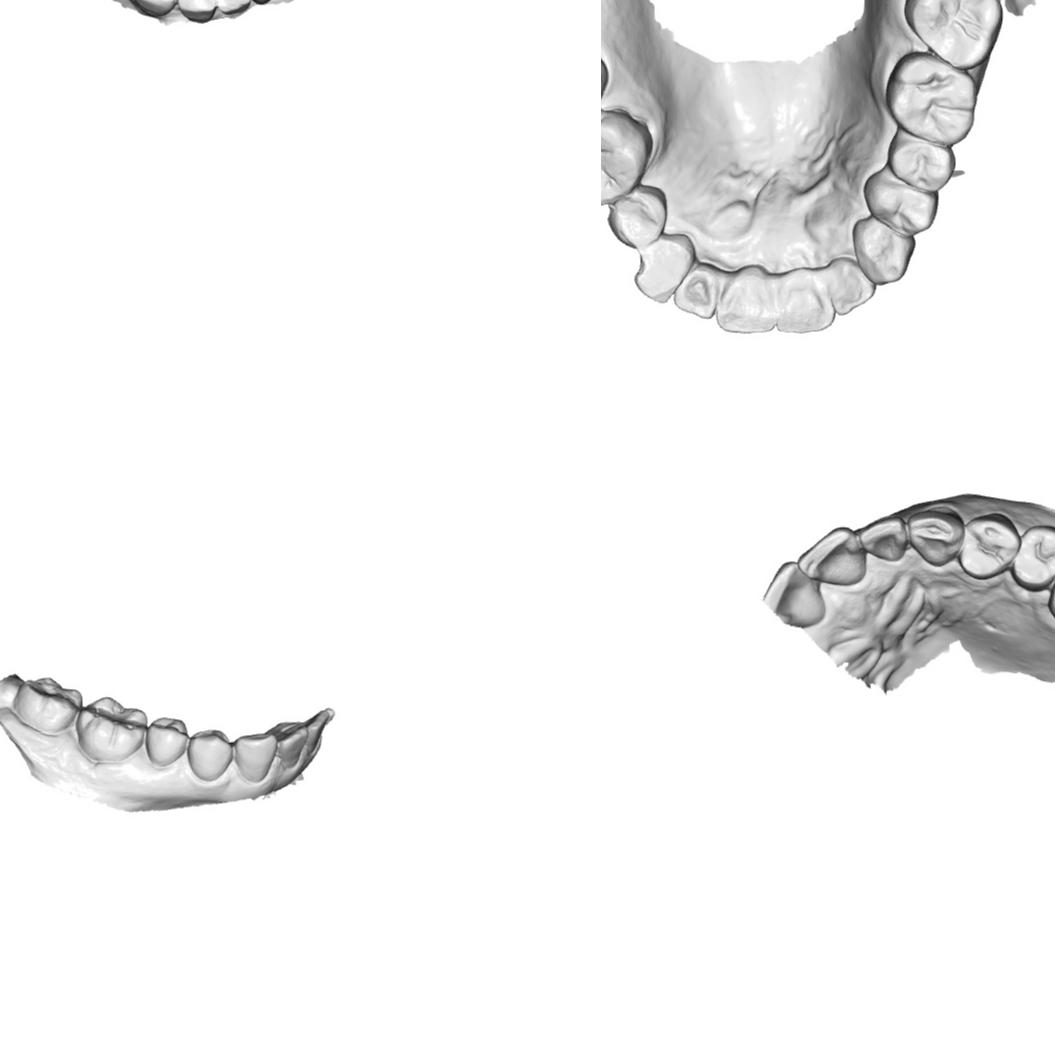canine: (851, 214, 915, 286), (633, 237, 693, 305), (905, 506, 963, 569), (233, 732, 278, 784), (128, 0, 182, 16)
incisor: (713, 265, 777, 337), (762, 560, 827, 627), (775, 263, 832, 336), (797, 525, 862, 587), (827, 256, 876, 318), (673, 264, 719, 319), (856, 516, 910, 561), (276, 724, 308, 769), (306, 709, 330, 754), (177, 0, 218, 24), (216, 0, 254, 20)
molar: (884, 50, 978, 146), (903, 0, 1003, 71), (74, 696, 148, 763), (601, 110, 651, 207), (12, 675, 82, 736)
premolar: (862, 166, 938, 238), (886, 134, 954, 197), (606, 183, 669, 249), (958, 512, 1019, 580), (1009, 523, 1055, 592), (186, 728, 234, 782), (144, 716, 188, 766)
